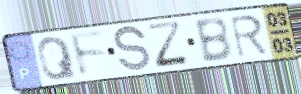B: (192, 15, 235, 65)
F: (67, 30, 109, 80)
Q: (35, 34, 80, 82)
R: (228, 13, 271, 60)
S: (112, 24, 153, 75)
Z: (145, 19, 193, 71)
